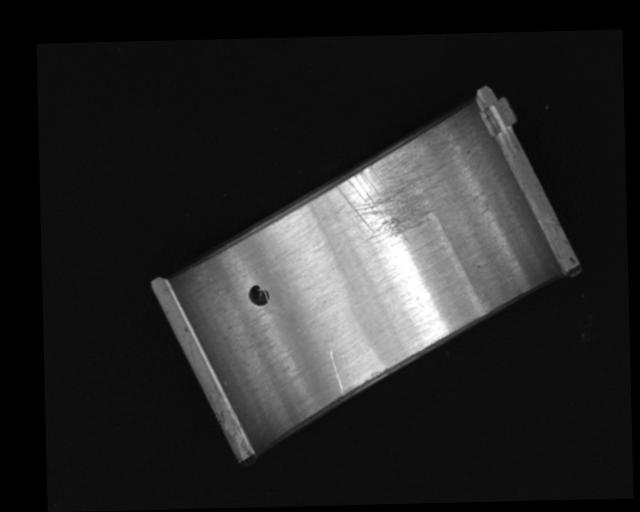blot: (247, 284, 270, 306)
nick: (329, 350, 345, 394)
scratch: (335, 125, 447, 244)
